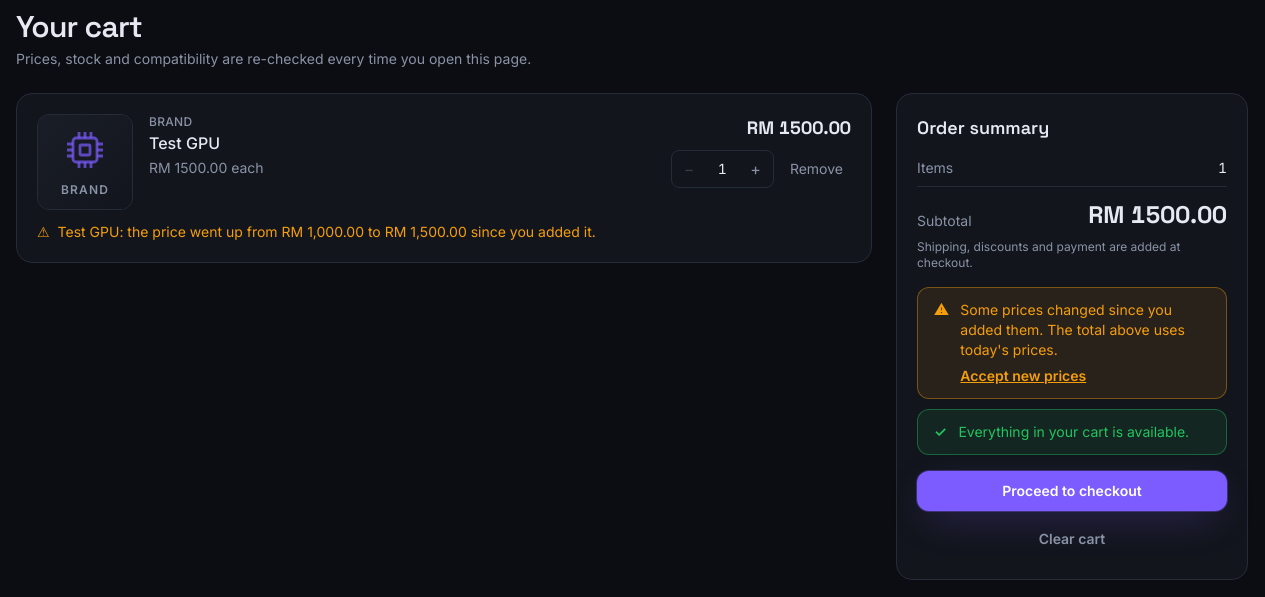
Scenario: Cart page › shows price-change and blocking problems, and accepts new prices
What coordinates should you click on to do the following:
click the button "Accept new prices"
I would click on:
 (1023, 376)
Its box is [960,366,1086,386].
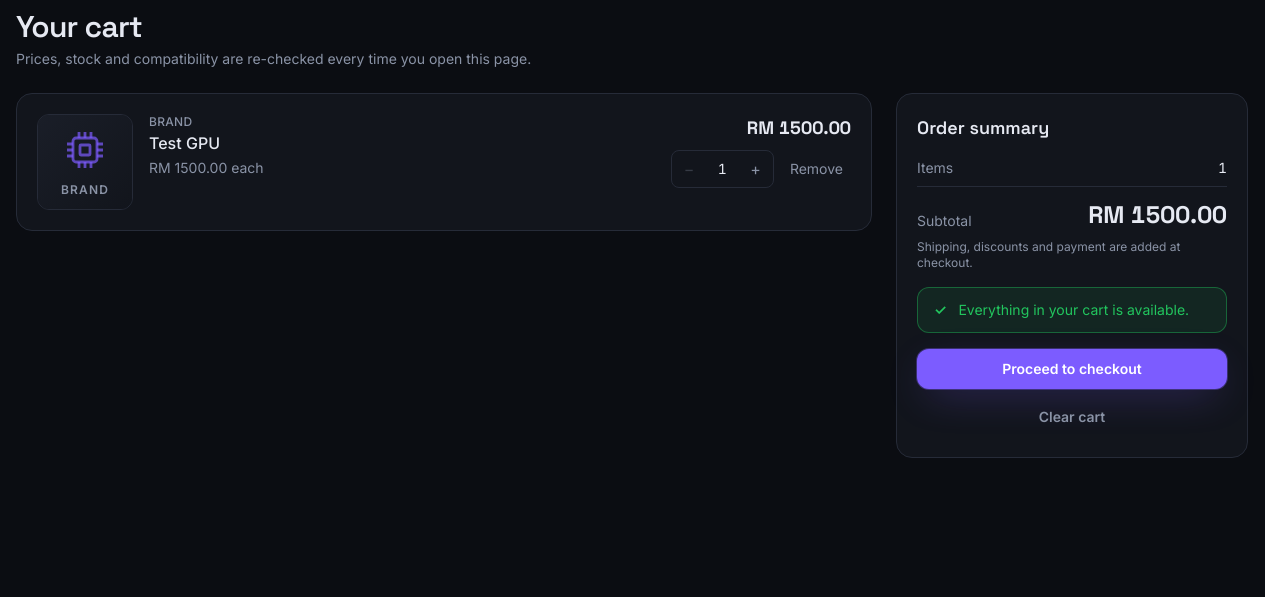
Result: the text "Some prices changed" is gone
